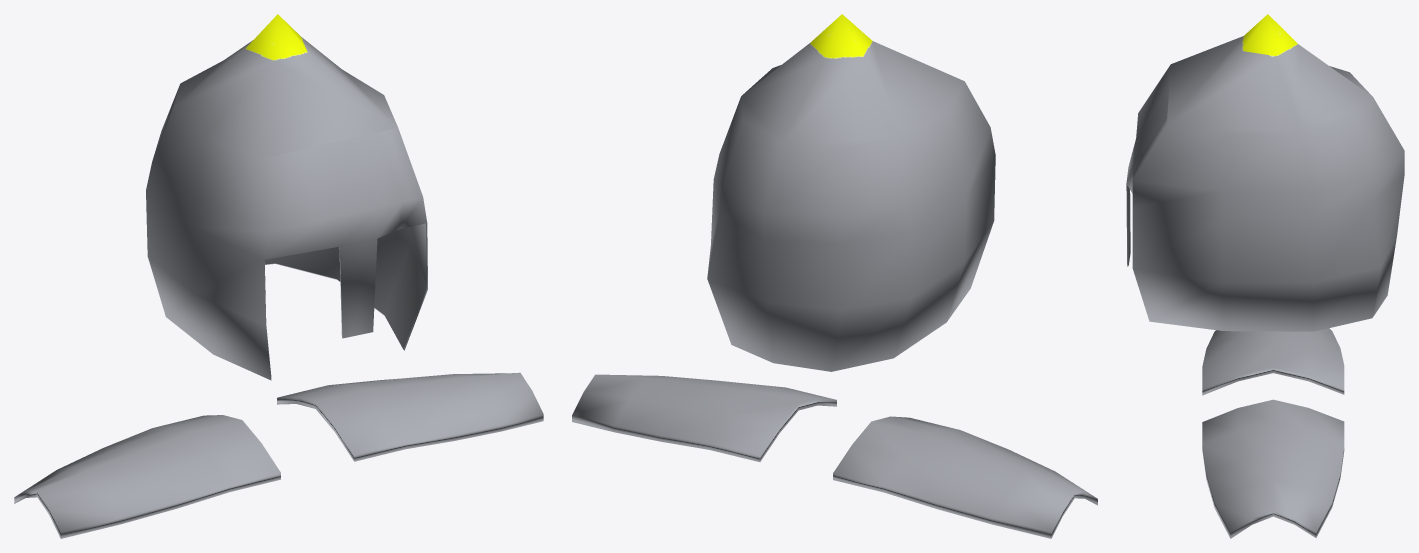
File: Skelly_Armor.fbx
The picture shows the model from 3 angles, left to right: view 1: azimuth 30°, elevation 25°; view 2: azimuth 150°, elevation 25°; view 3: azimuth 270°, elevation 25°; orthographic projection. The views are drawn at different scales.
Visible parts, largest first — view 1: Icosphere, Cube; view 2: Icosphere, Cube; view 3: Icosphere, Cube.
Boxes of the visible parts, x1=… form: Icosphere: x1=146, y1=14, x2=427, y2=380; Cube: x1=14, y1=372, x2=543, y2=538; Icosphere: x1=707, y1=14, x2=995, y2=371; Cube: x1=572, y1=374, x2=1097, y2=538; Icosphere: x1=1126, y1=14, x2=1404, y2=331; Cube: x1=1202, y1=328, x2=1344, y2=538.
Bounding box in the file's own units: 167 × 149 × 90.62.
2 materials, 2 textured.
